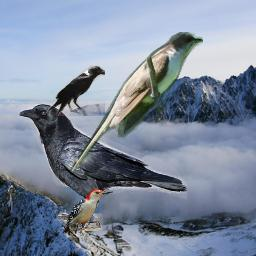Crow: (18, 104, 187, 231), (45, 64, 105, 116)
Cuckoo: (69, 32, 203, 174)
Woodpecker: (62, 189, 113, 234)
